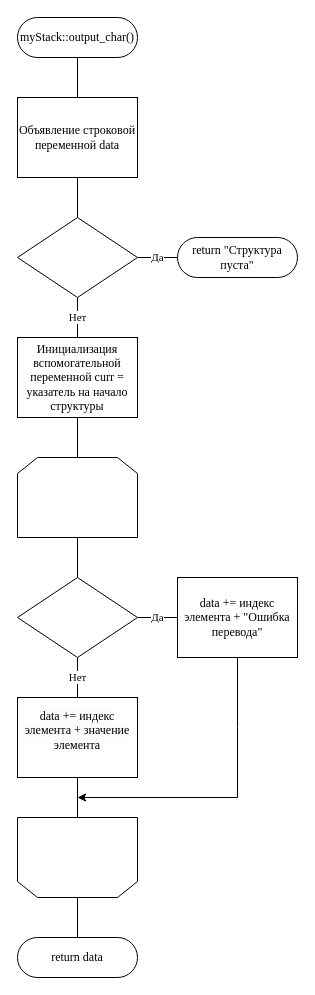
This 315x995 diagram has some shape labels left out. Here are the shapes that lost their labels. From the top down, the centre of each, then its label:
pixel 77 257: Указатель на структуру данных нулевой
pixel 77 497: curr = sHead; curr != nullptr; curr = curr->next
pixel 77 617: Значение этого элемента - 0
pixel 77 857: curr
